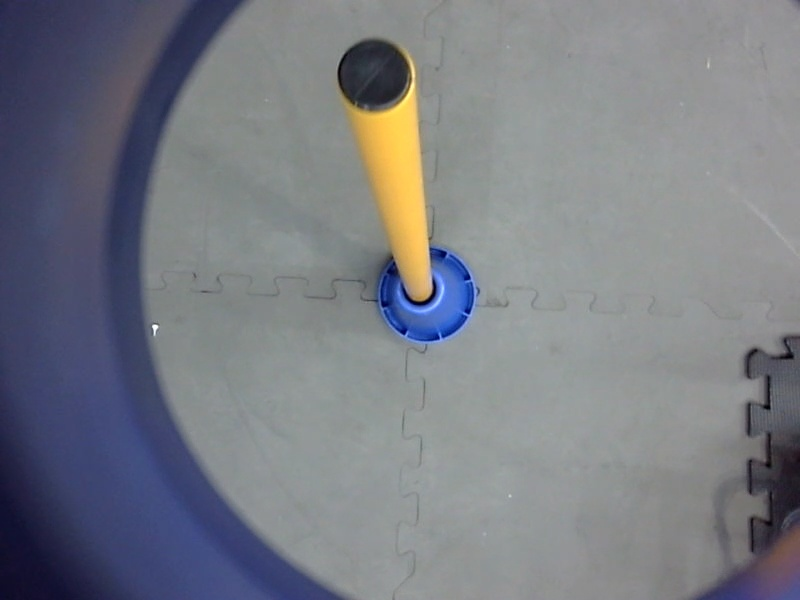tip: (329, 29, 420, 118)
